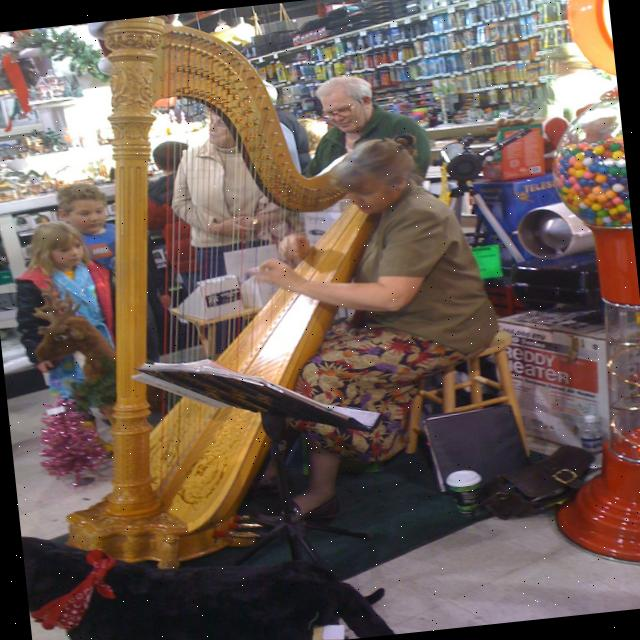harp: (17, 0, 461, 573)
